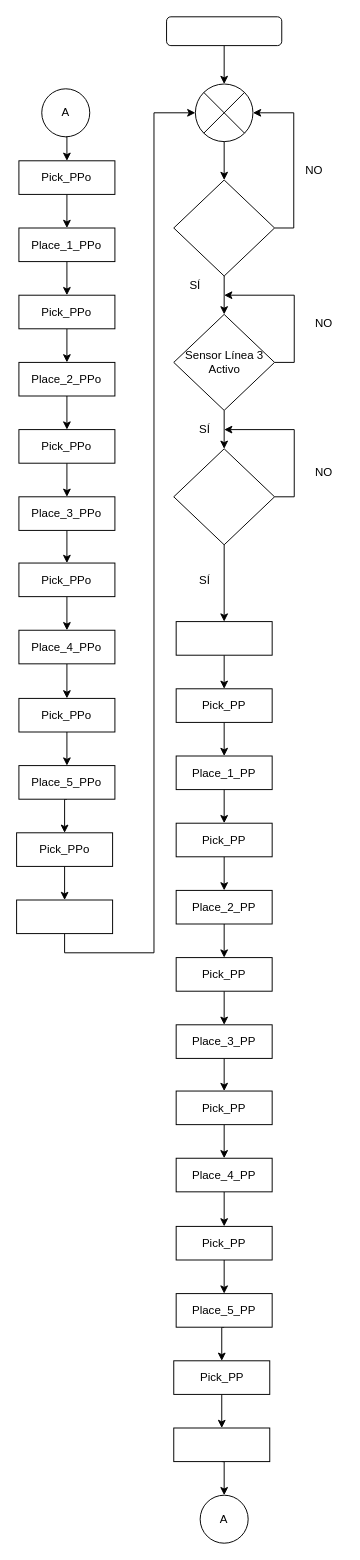
Some shapes in this 360 by 1560 pixel diagram are drawn without their labels. Here are the shapes that lost their labels. From the top down, the box of each, then its label:
(166, 16, 282, 46): Inicio
(173, 179, 275, 276): Sensor Plano 2 Activo
(173, 448, 275, 545): Sensor Línea 5 Activo
(175, 621, 272, 655): Home_R3
(16, 899, 113, 934): Place_6_PPo
(173, 1427, 270, 1462): Place_6_PP
